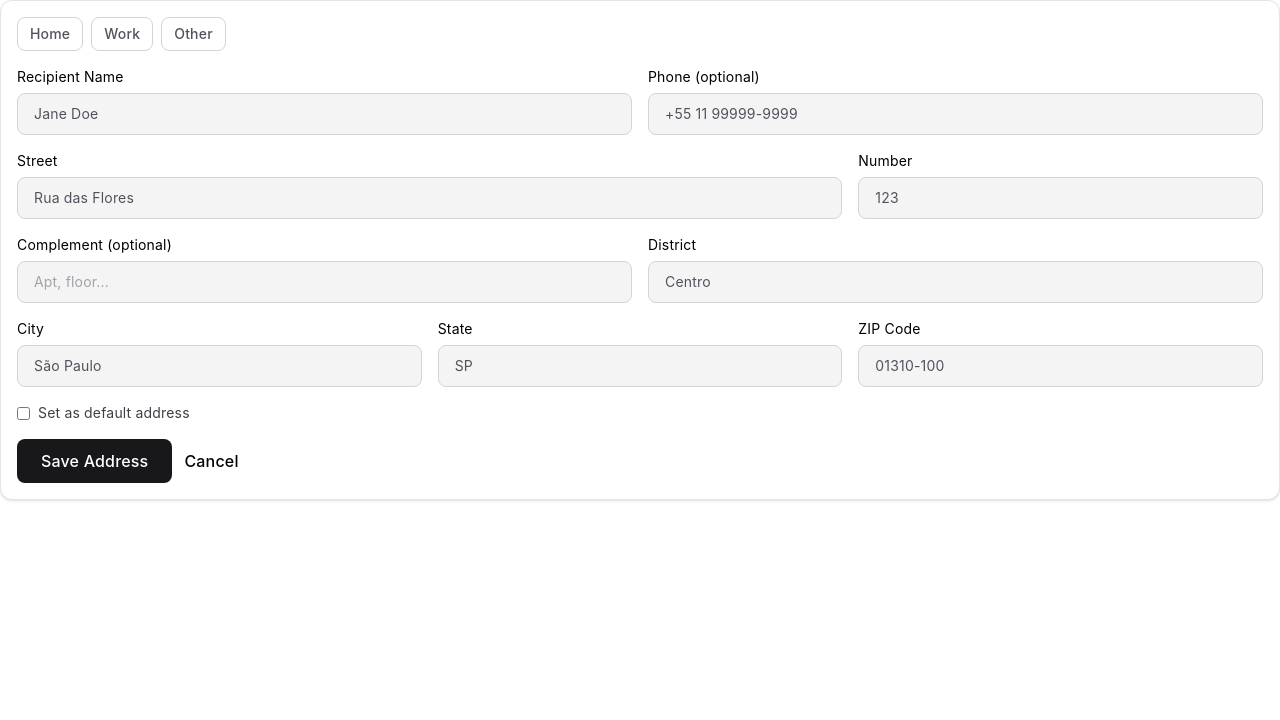
Scenario: AddressForm › displays root error message when errors.root is set
Click the button "Save Address".
click(95, 461)  # box [17,439,172,483]
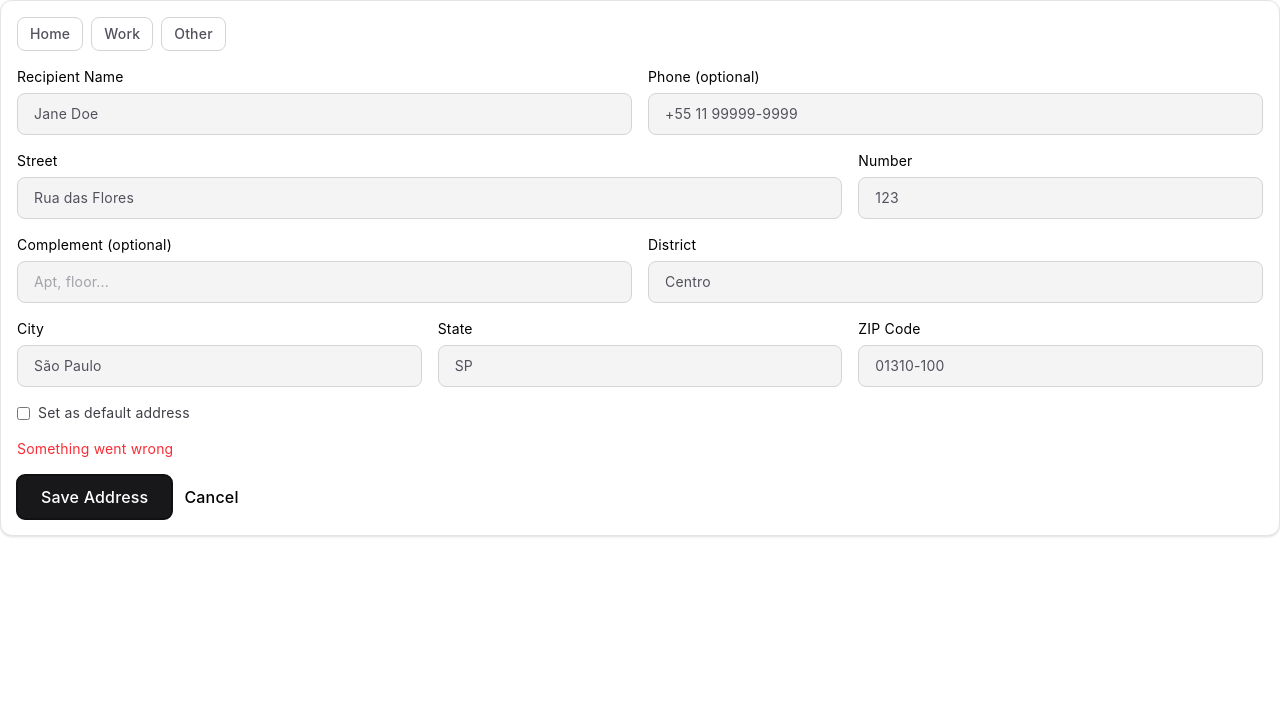
Check: the text "Something went wrong" is shown, box [17,440,173,457]
